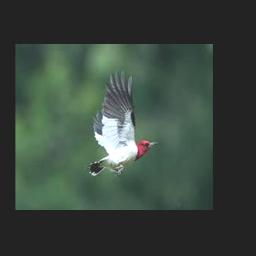Woodpecker: (86, 70, 157, 176)
